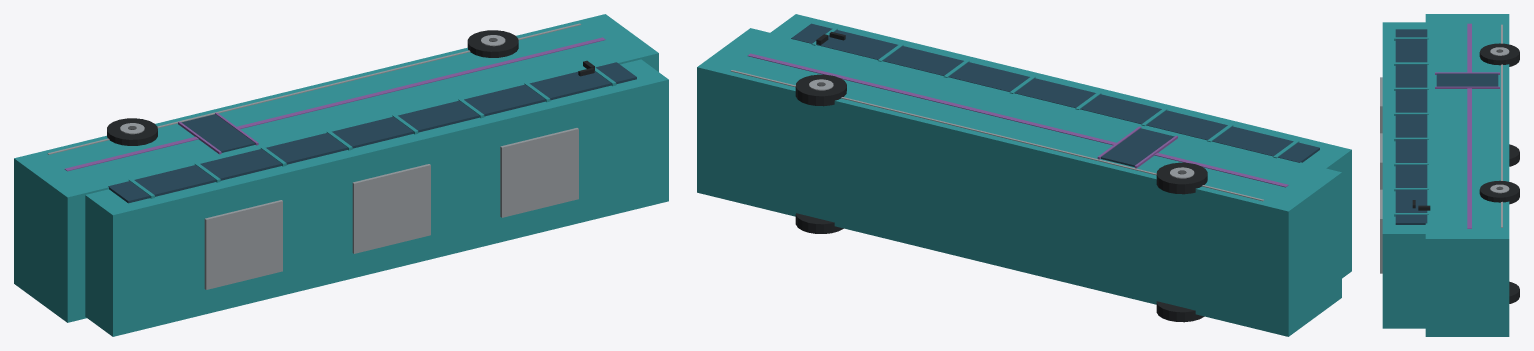
Rendered from RM_Bus_50.glb.
3 views of the same model, side by side, from view 1: azimuth 30°, elevation 25°; view 2: azimuth 150°, elevation 25°; view 3: azimuth 270°, elevation 25° (orthographic). The views are drawn at different scales.
Visible parts, largest first — view 1: part_001, part_000, part_002, part_039, part_037, part_038, part_013, part_040, part_014, part_030, part_024; view 2: part_000, part_002, part_001, part_013, part_040, part_030, part_024, part_014, part_021, part_027; view 3: part_000, part_001, part_002, part_013, part_040, part_024, part_030, part_014, part_039, part_021, part_027, part_042 (+5 smaller).
Boxes of the visible parts, x1=… form: part_001: x1=85, y1=59, x2=668, y2=336; part_000: x1=14, y1=14, x2=658, y2=322; part_002: x1=108, y1=62, x2=636, y2=203; part_039: x1=500, y1=128, x2=578, y2=217; part_037: x1=204, y1=200, x2=282, y2=289; part_038: x1=352, y1=164, x2=430, y2=253; part_013: x1=64, y1=37, x2=605, y2=171; part_040: x1=181, y1=114, x2=254, y2=152; part_014: x1=47, y1=23, x2=581, y2=154; part_030: x1=467, y1=30, x2=518, y2=57; part_024: x1=107, y1=118, x2=157, y2=145; part_000: x1=697, y1=28, x2=1341, y2=336; part_002: x1=791, y1=23, x2=1319, y2=162; part_001: x1=770, y1=14, x2=1351, y2=278; part_013: x1=747, y1=53, x2=1288, y2=187; part_040: x1=1101, y1=128, x2=1174, y2=166; part_030: x1=795, y1=74, x2=846, y2=106; part_024: x1=1156, y1=162, x2=1207, y2=194; part_014: x1=730, y1=70, x2=1263, y2=201; part_021: x1=1156, y1=301, x2=1204, y2=322; part_027: x1=795, y1=213, x2=843, y2=233; part_000: x1=1425, y1=14, x2=1509, y2=336; part_001: x1=1382, y1=22, x2=1425, y2=328; part_002: x1=1395, y1=29, x2=1427, y2=224; part_013: x1=1467, y1=23, x2=1471, y2=228; part_040: x1=1436, y1=73, x2=1498, y2=86; part_024: x1=1479, y1=43, x2=1519, y2=66; part_030: x1=1479, y1=180, x2=1519, y2=204; part_014: x1=1501, y1=24, x2=1502, y2=227; part_039: x1=1380, y1=189, x2=1382, y2=273; part_021: x1=1509, y1=144, x2=1519, y2=166; part_027: x1=1509, y1=281, x2=1519, y2=303; part_042: x1=1435, y1=86, x2=1499, y2=88.
Bounding box in the file's own units: 12.48 × 2.85 × 3.28.
